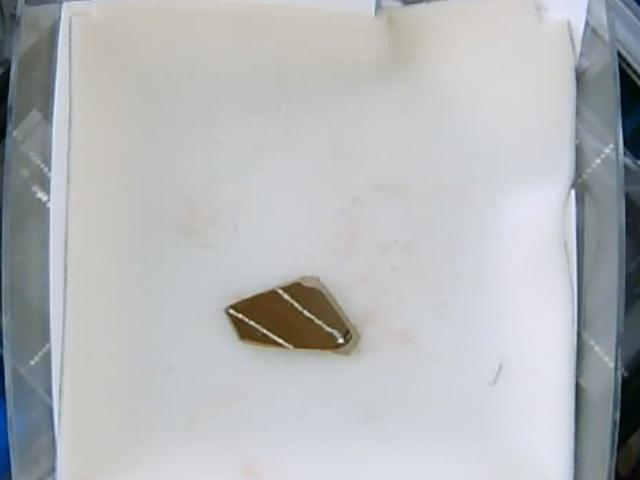China: (223, 273, 362, 357)
